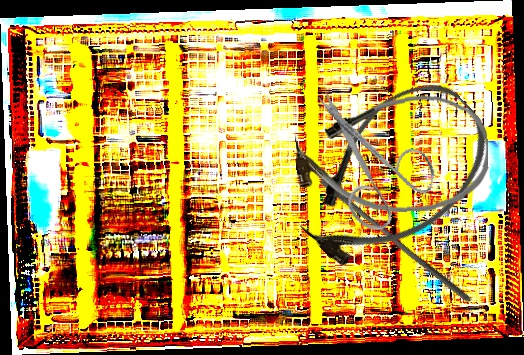Cannula: (275, 60, 512, 292), (294, 93, 490, 216)
Iris Scissors: (287, 88, 449, 242)
Pusher: (314, 176, 478, 305)
